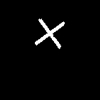single_crochet: (35, 19, 63, 48)
